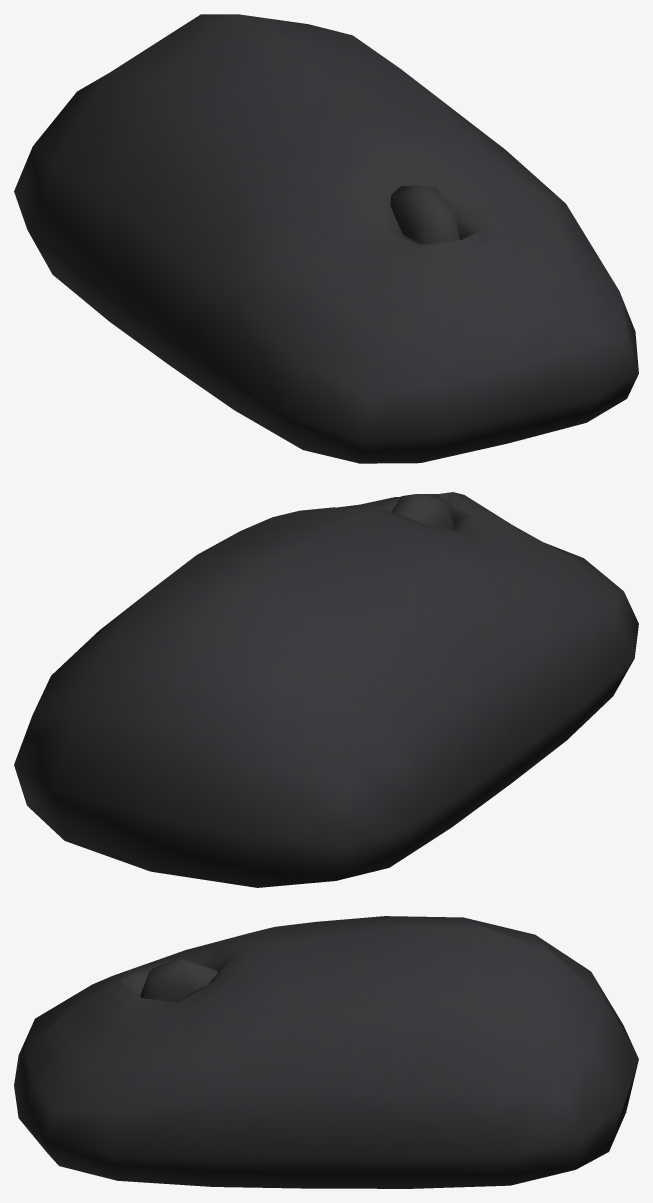
Rendered from mouse.glb.
The picture shows the model from 3 angles, top to bottom: view 1: azimuth 30°, elevation 25°; view 2: azimuth 150°, elevation 25°; view 3: azimuth 270°, elevation 25°; orthographic projection. The views are drawn at different scales.
Visible parts, largest first — view 1: SM_Mouse; view 2: SM_Mouse; view 3: SM_Mouse.
Boxes of the visible parts, x1,y1,x2,y2 form: SM_Mouse: (14,14,638,463); SM_Mouse: (14,492,638,887); SM_Mouse: (14,916,638,1188).
Size of the model in its own units: 0.0948 by 0.0582 by 0.1556.
1 material, 1 textured.
